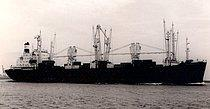Ship: (5, 16, 210, 90)
